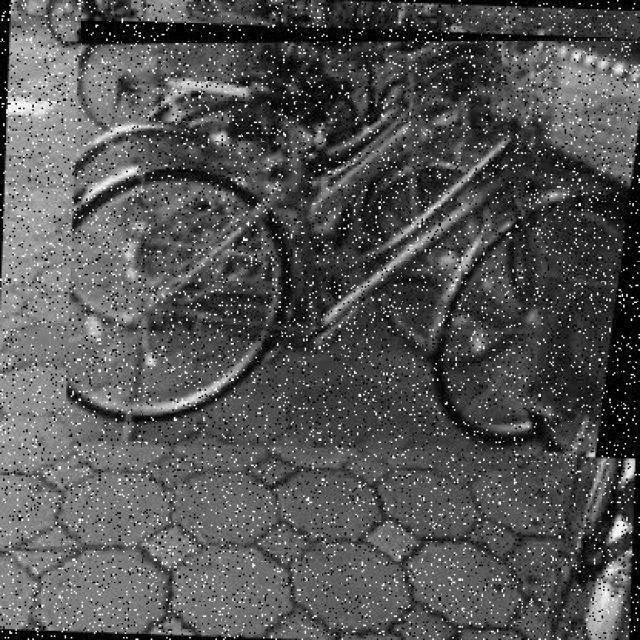bicycle: (63, 19, 639, 462)
